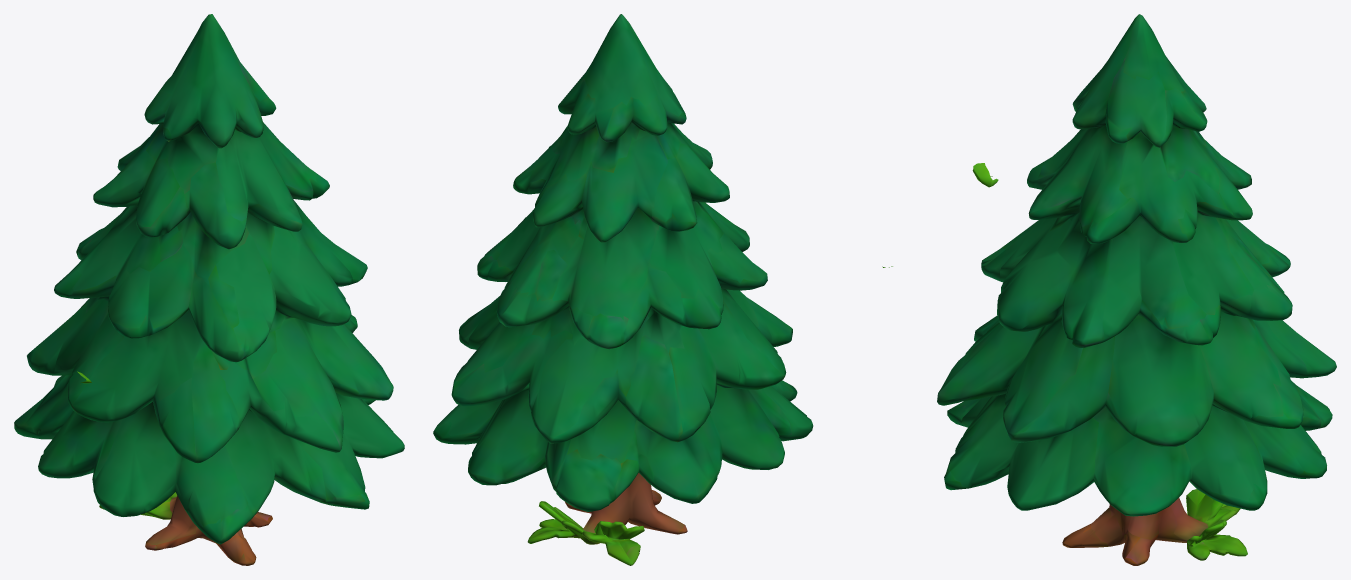
File: tt_pine.glb
3 renders of one model, left to right at view 1: azimuth 30°, elevation 25°; view 2: azimuth 150°, elevation 25°; view 3: azimuth 270°, elevation 25°, orthographic. The views are drawn at different scales.
Visible parts, largest first — view 1: tree; view 2: tree; view 3: tree.
Part boxes in pixels (x1,y1,x2,y2): tree: [14, 14, 404, 565]; tree: [433, 14, 892, 565]; tree: [937, 14, 1336, 565].
Size of the model in its own units: 0.7496 by 1 by 0.6851.
1 material, 1 textured.
